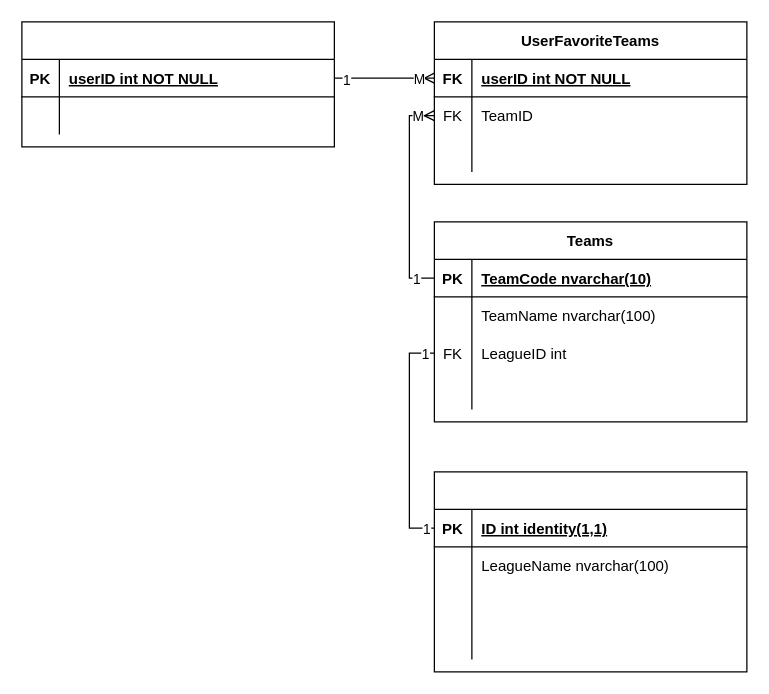
The diagram is 769 pixels wide and 694 high, and some of its shapes have lost their labels. Each missing label, with the box of its shape:
Leagues: (433, 471, 747, 672)
Users: (21, 21, 334, 147)
